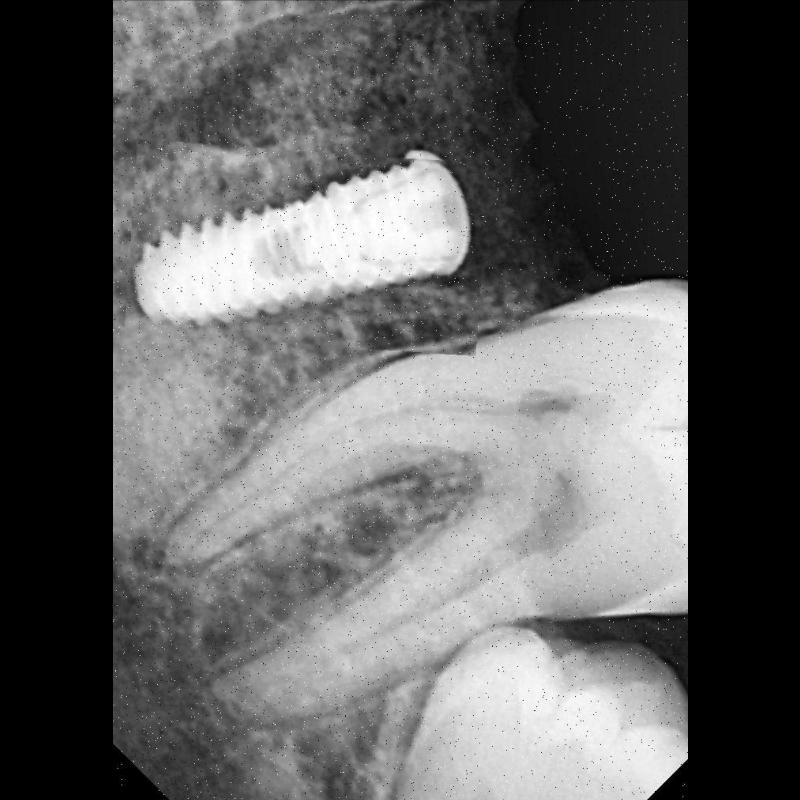osstem: (128, 145, 486, 349)
